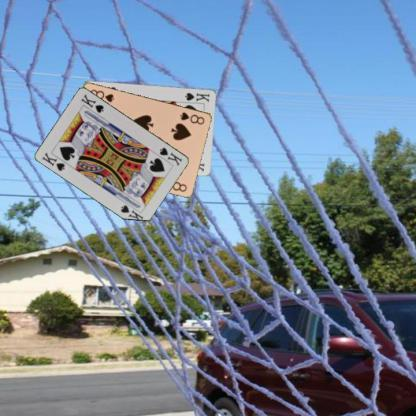8s: (177, 110, 206, 126)
Ks: (158, 145, 184, 167), (40, 150, 66, 172), (182, 89, 210, 103)
